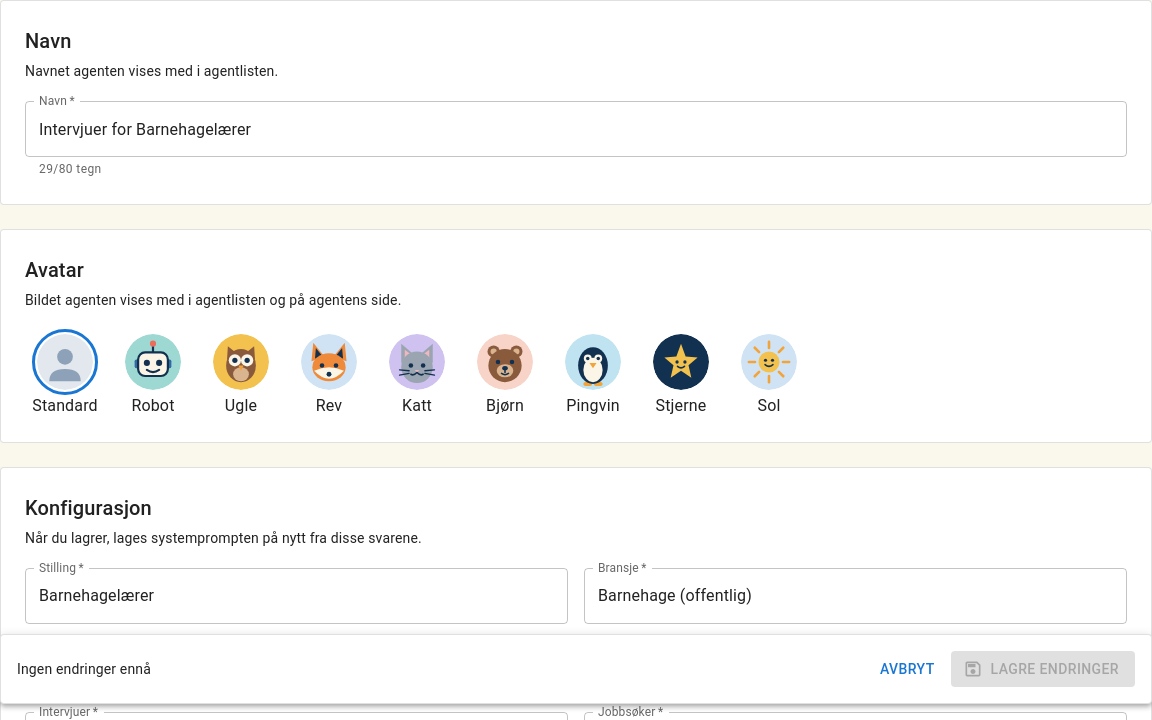
Test: EditAgentForm › can still be saved when settings it did not change would not pass its own checks
The image size is (1152, 720).
Later steps or results of the test are not shown.
Clear the field labelled "Navn *" at (576, 129), box x1=25 y1=101 x2=1127 y2=157
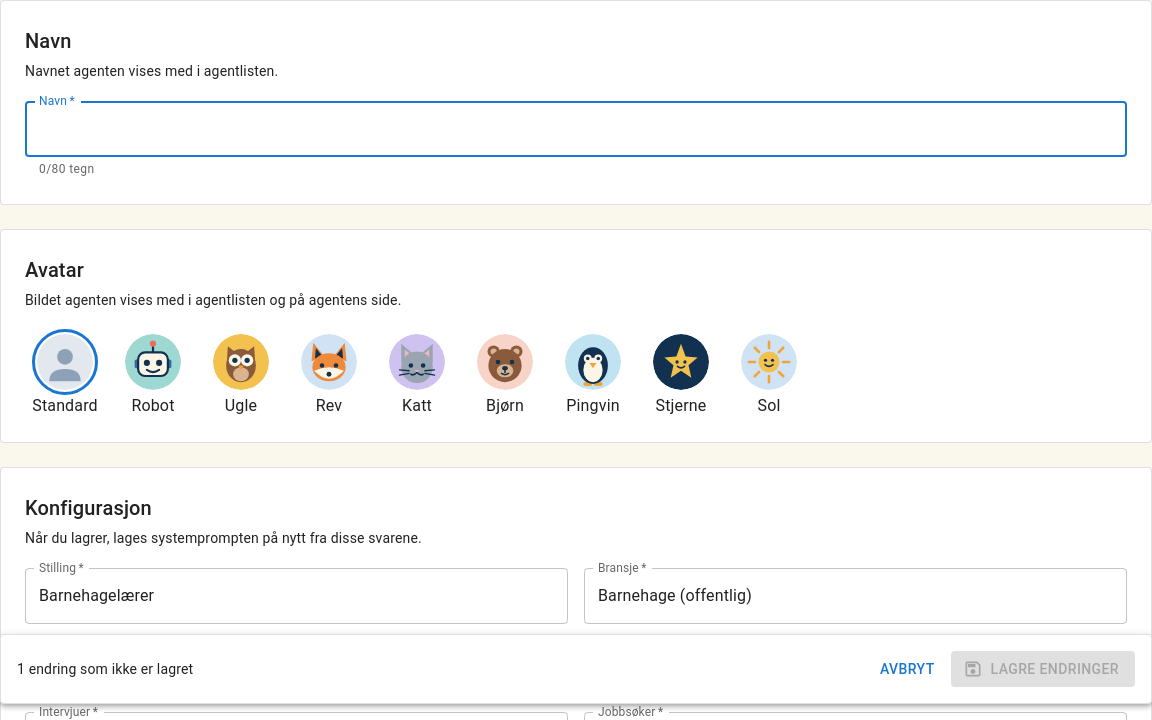
Type keys "Ny intervjuer"
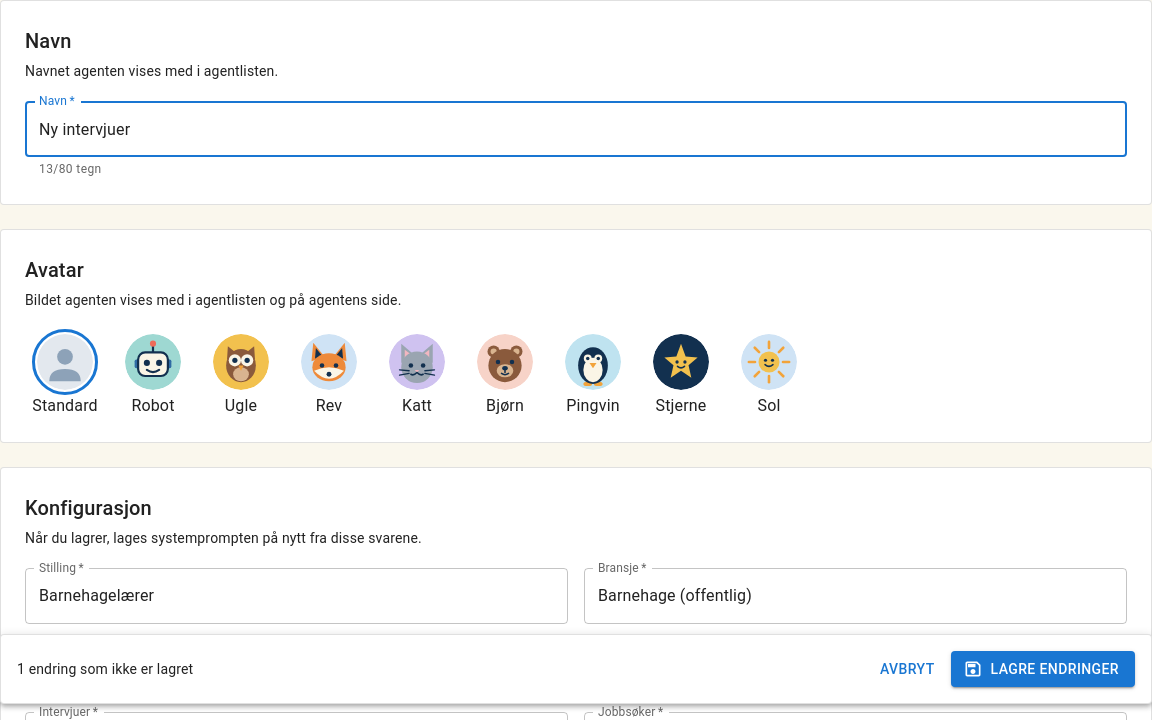
Check: the text "1 endring som ikke er lagret" is shown, box x1=17 y1=659 x2=193 y2=679
Check: the button "Lagre endringer" is enabled, box x1=951 y1=650 x2=1135 y2=687
